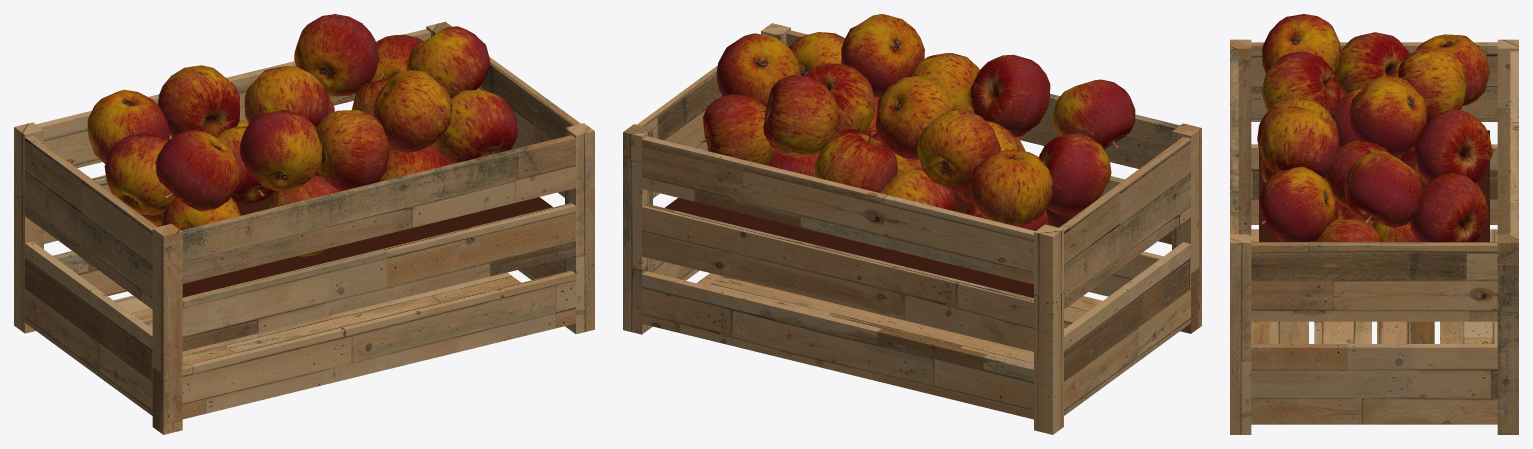
Rendered from skrzynka_jablka.glb.
3 views of the same model, side by side, from view 1: azimuth 30°, elevation 25°; view 2: azimuth 150°, elevation 25°; view 3: azimuth 270°, elevation 25° (orthographic). The views are drawn at different scales.
Visible parts, largest first — view 1: skrzynka, jablka, dno; view 2: skrzynka, jablka, dno; view 3: skrzynka, jablka, dno.
Part boxes in pixels (bbox=[...]): skrzynka: bbox=[14, 21, 594, 434]; jablka: bbox=[87, 14, 517, 256]; dno: bbox=[139, 190, 552, 297]; skrzynka: bbox=[623, 23, 1201, 434]; jablka: bbox=[698, 14, 1135, 230]; dno: bbox=[665, 191, 1033, 297]; skrzynka: bbox=[1230, 39, 1518, 434]; jablka: bbox=[1257, 14, 1492, 241]; dno: bbox=[1259, 130, 1489, 241].
Bounding box in the file's own units: 0.5 × 0.2929 × 0.3.
3 materials, 3 textured.
